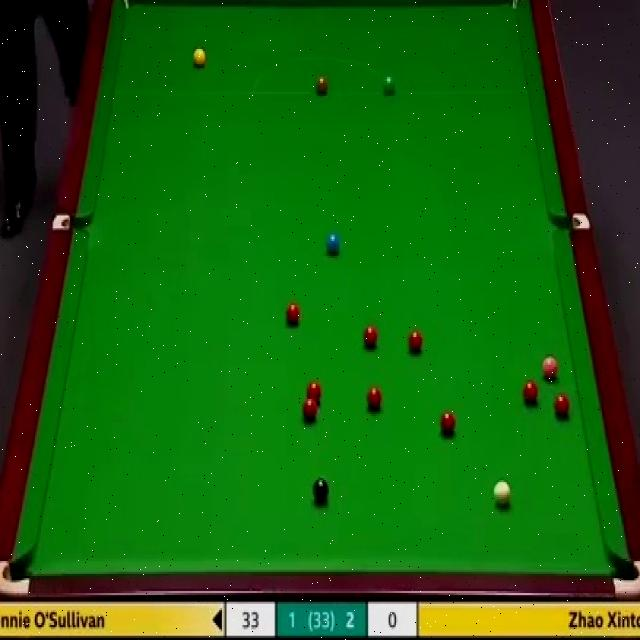black-ball: (312, 477, 329, 503)
blue-ball: (326, 233, 339, 257)
brown-ball: (316, 77, 328, 96)
green-ball: (384, 75, 396, 96)
pink-ball: (542, 355, 560, 382)
red-ball: (552, 392, 571, 418), (438, 411, 456, 437), (408, 327, 424, 354), (362, 325, 378, 351), (367, 387, 383, 412), (522, 382, 539, 404), (301, 398, 318, 420), (306, 381, 322, 403), (286, 301, 300, 325)
white-ball: (492, 479, 511, 509)
yellow-ball: (192, 49, 208, 71)
